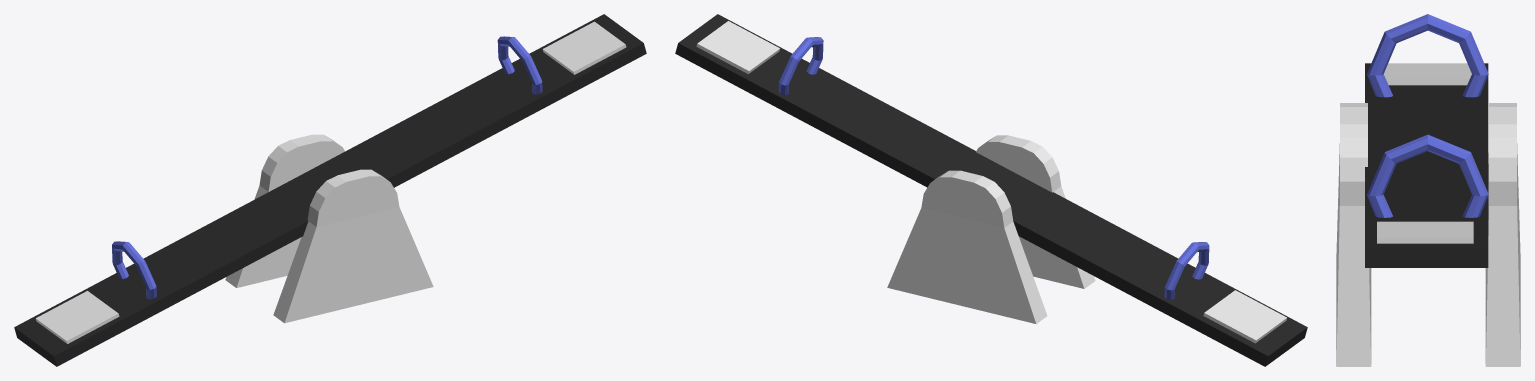
The model's file is Park_Plaything_2.fbx.
3 renders of one model, left to right at view 1: azimuth 30°, elevation 25°; view 2: azimuth 150°, elevation 25°; view 3: azimuth 270°, elevation 25°, orthographic. The views are drawn at different scales.
Visible parts, largest first — view 1: Park_Plaything_2; view 2: Park_Plaything_2; view 3: Park_Plaything_2.
Part boxes in pixels (left/top/right/bottom): Park_Plaything_2: left=14, top=14, right=646, bottom=366; Park_Plaything_2: left=675, top=14, right=1307, bottom=366; Park_Plaything_2: left=1336, top=14, right=1520, bottom=366.
Size of the model in its own units: 2.6 by 0.8467 by 0.4503.
